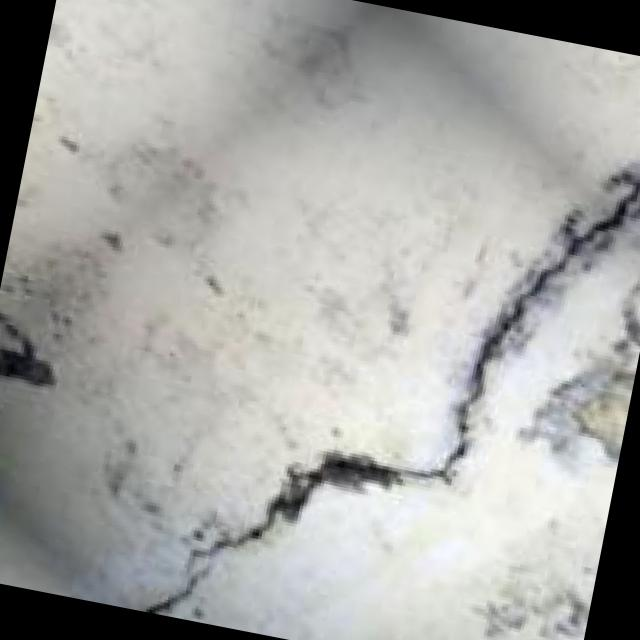crack: (124, 61, 640, 640)
